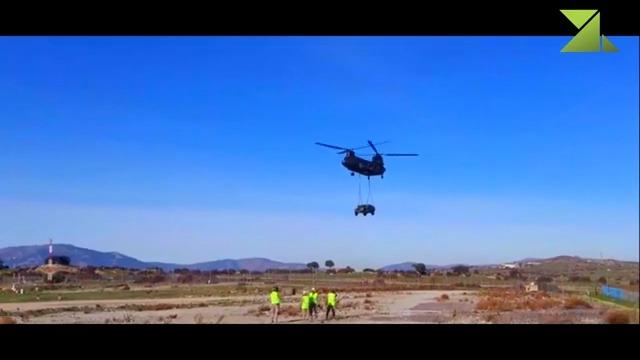MIL_HMMWV: (270, 286, 281, 323), (325, 289, 337, 321), (300, 290, 310, 324), (354, 204, 375, 217), (310, 287, 318, 320)
